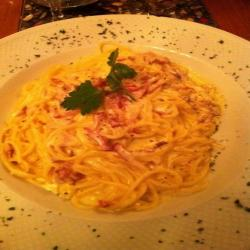carbonara: (10, 53, 224, 216)
